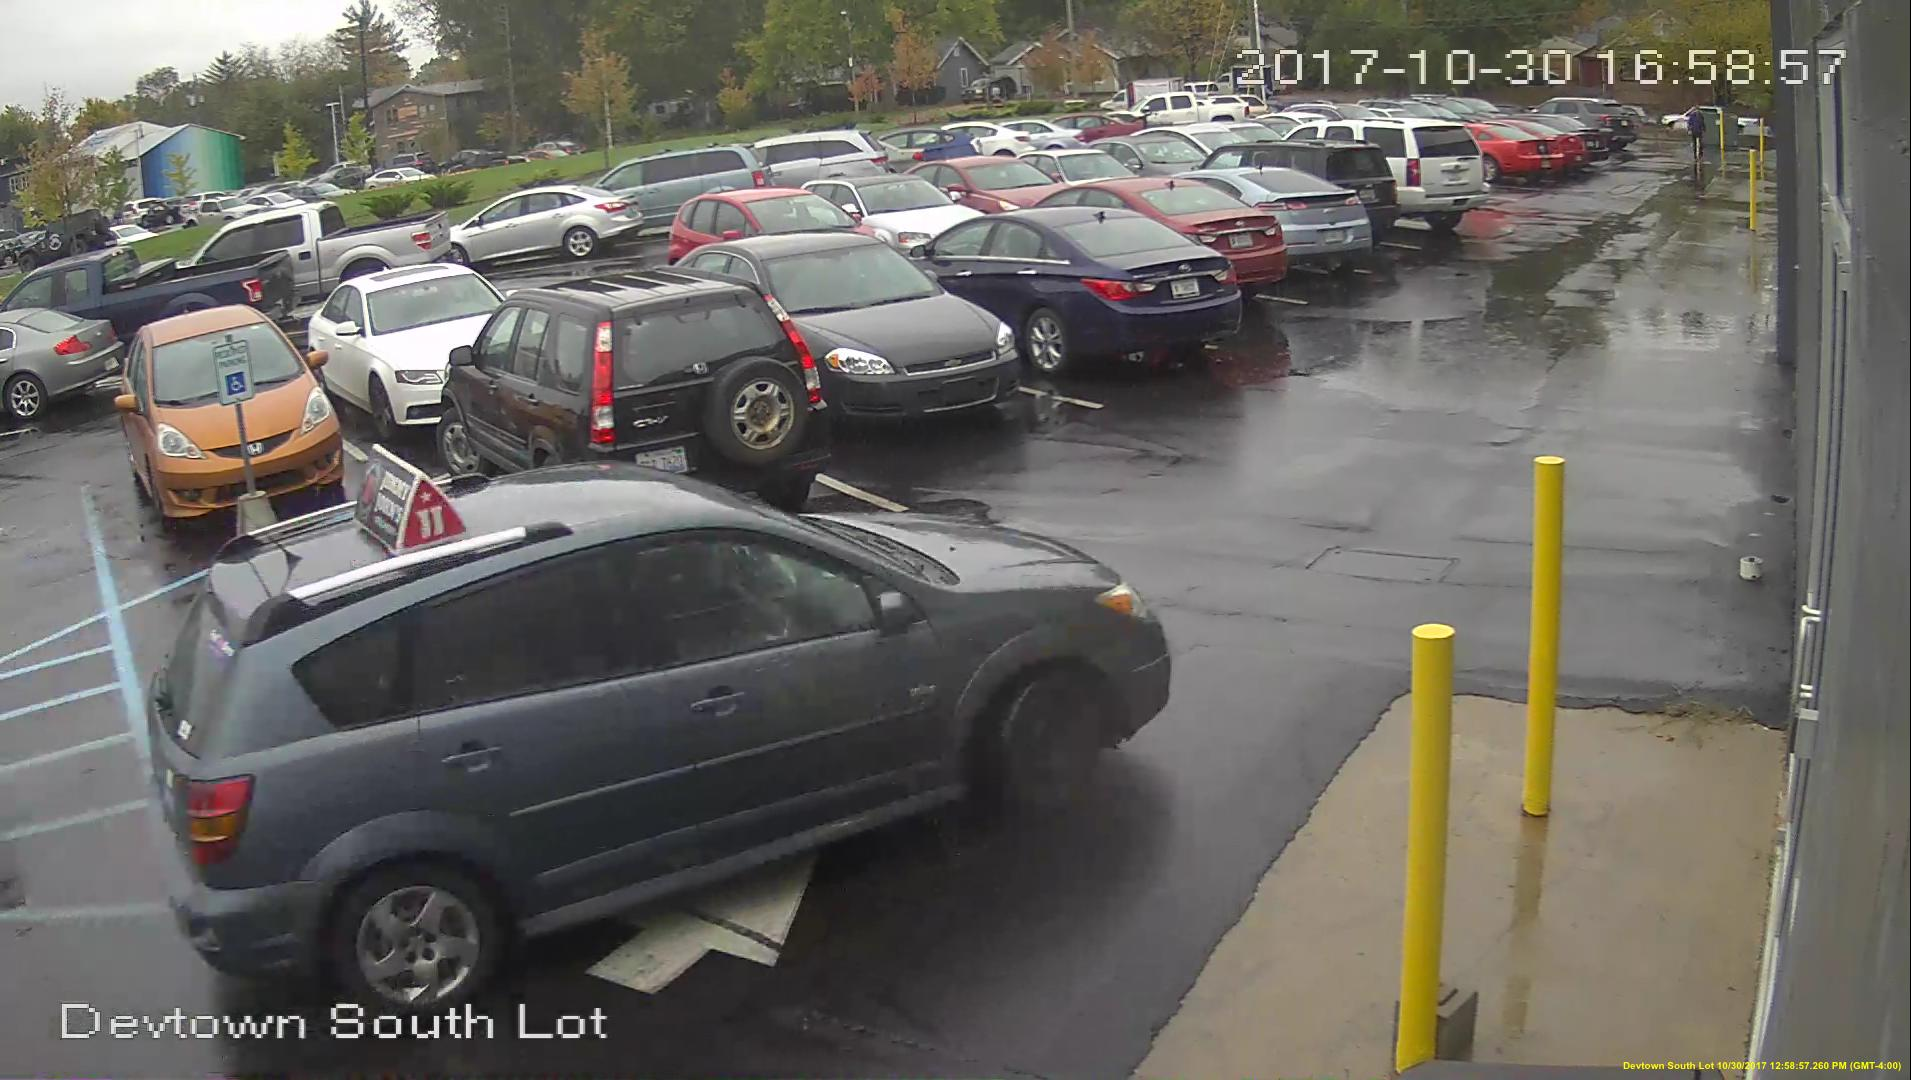jimmy_johns: (354, 440, 471, 560)
